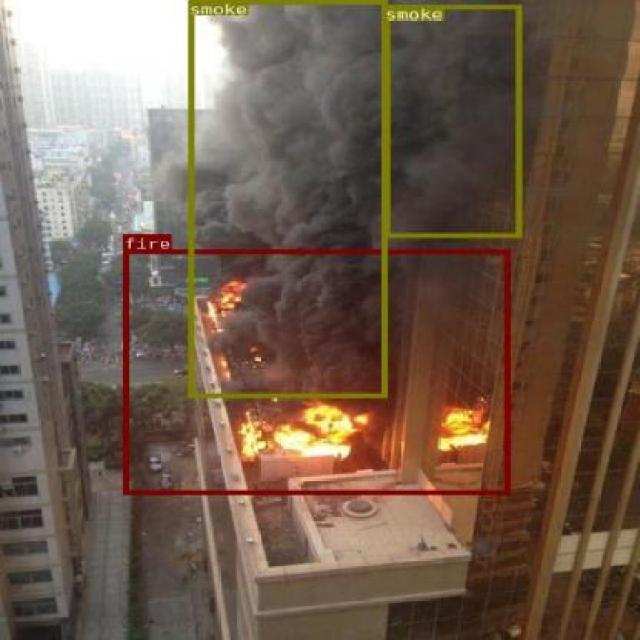fire: (122, 248, 508, 494)
smoke: (188, 0, 386, 397), (383, 4, 520, 238)
